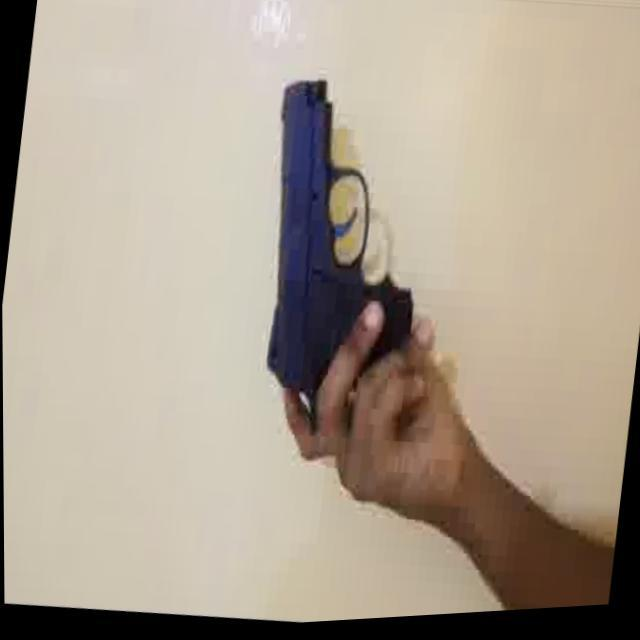weapon: (239, 70, 442, 457)
